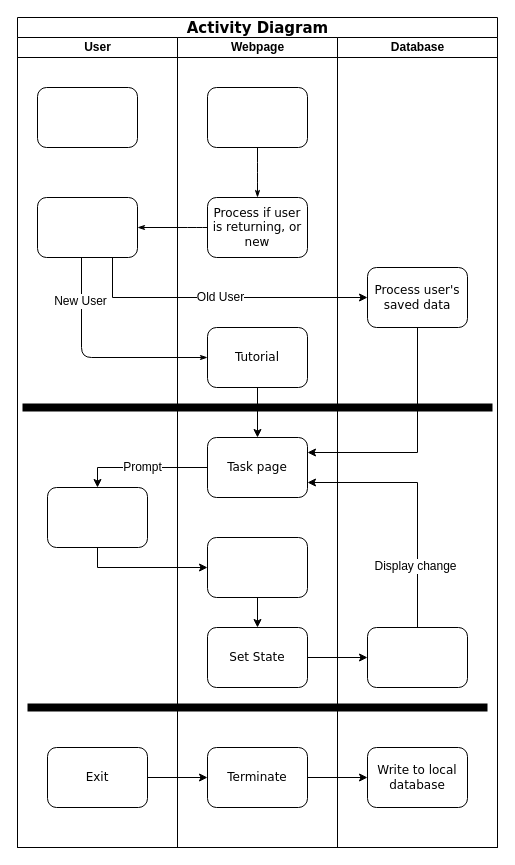
Some shapes in this 515 by 865 pixel diagram are drawn without their labels. Here are the shapes that lost their labels. From the top down, the centre of each, then its label:
(x=87, y=117): Goes to Page
(x=257, y=117): Home Page
(x=87, y=227): Select new or returning user
(x=97, y=517): Add/Remove task
(x=257, y=567): Sort
(x=417, y=657): Update data
